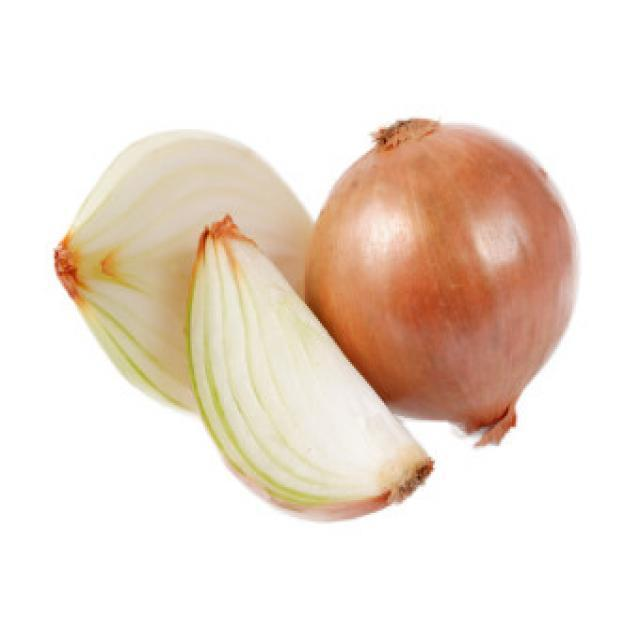onion: (303, 110, 582, 430), (184, 210, 432, 516), (62, 132, 314, 346)
